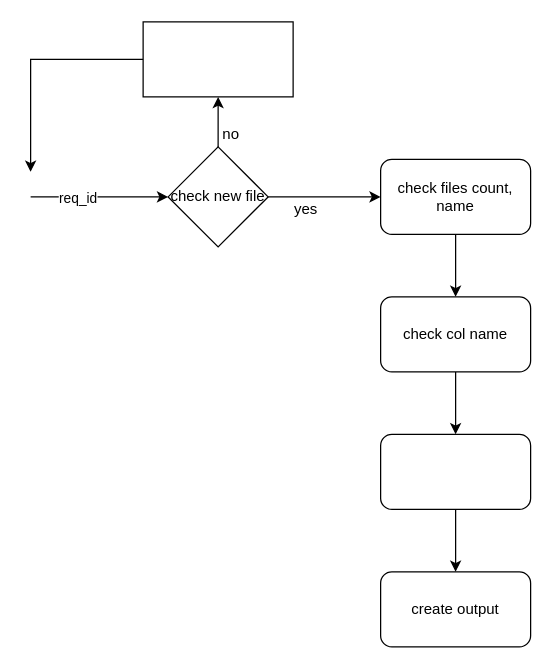
The diagram is 553 pixels wide and 669 high, and some of its shapes have lost their labels. Here are the shapes that lost their labels. From the top down, the box of each, then its label:
(142, 21, 293, 97): every 5 min check
(379, 433, 531, 509): match file
